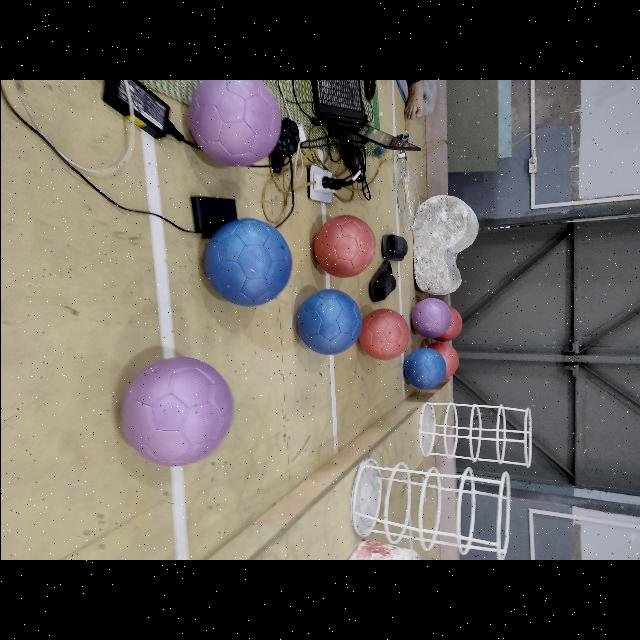B: (205, 218, 291, 306), (296, 290, 362, 354), (402, 349, 446, 389)
P: (121, 358, 233, 467), (189, 80, 281, 166), (411, 298, 452, 338)
R: (314, 216, 374, 278), (358, 310, 409, 360), (427, 342, 458, 376), (434, 307, 461, 341)
S: (348, 454, 516, 560), (412, 399, 534, 468)
